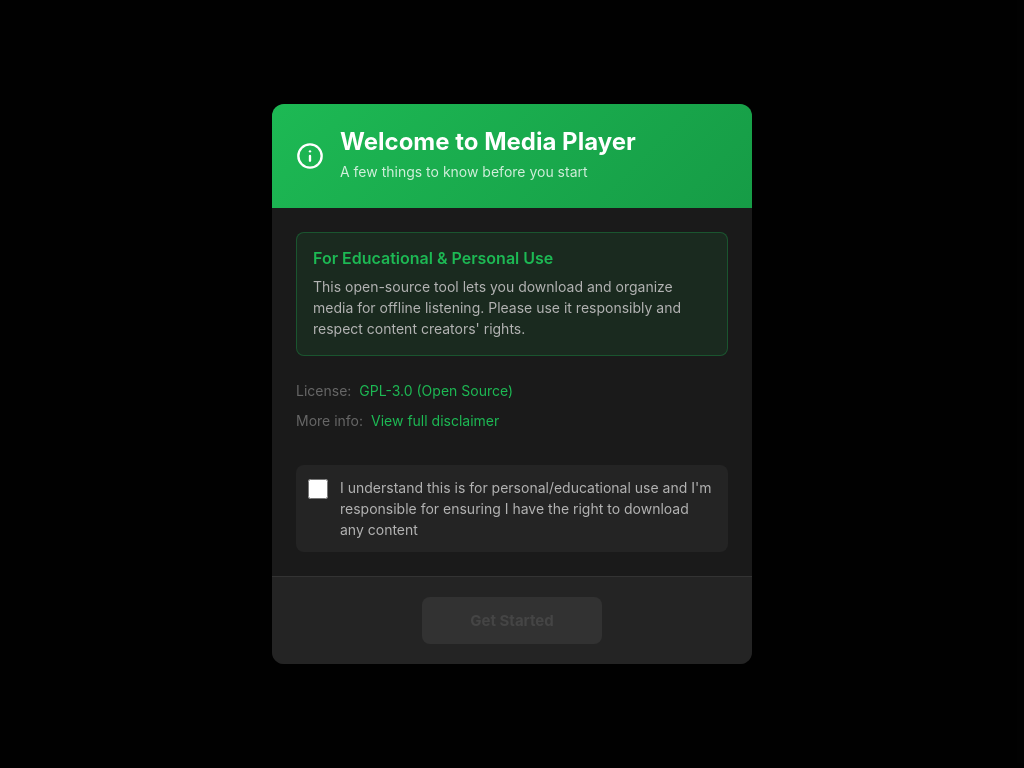
Scenario: FirstRunModal › checkbox interactions › enables accept button when checkbox is checked
Expected: the button "Get Started" is disabled, [422,597,602,644]
Check - now enabled
Click the checkbox. click: (318, 489)
box: [308,479,328,499]
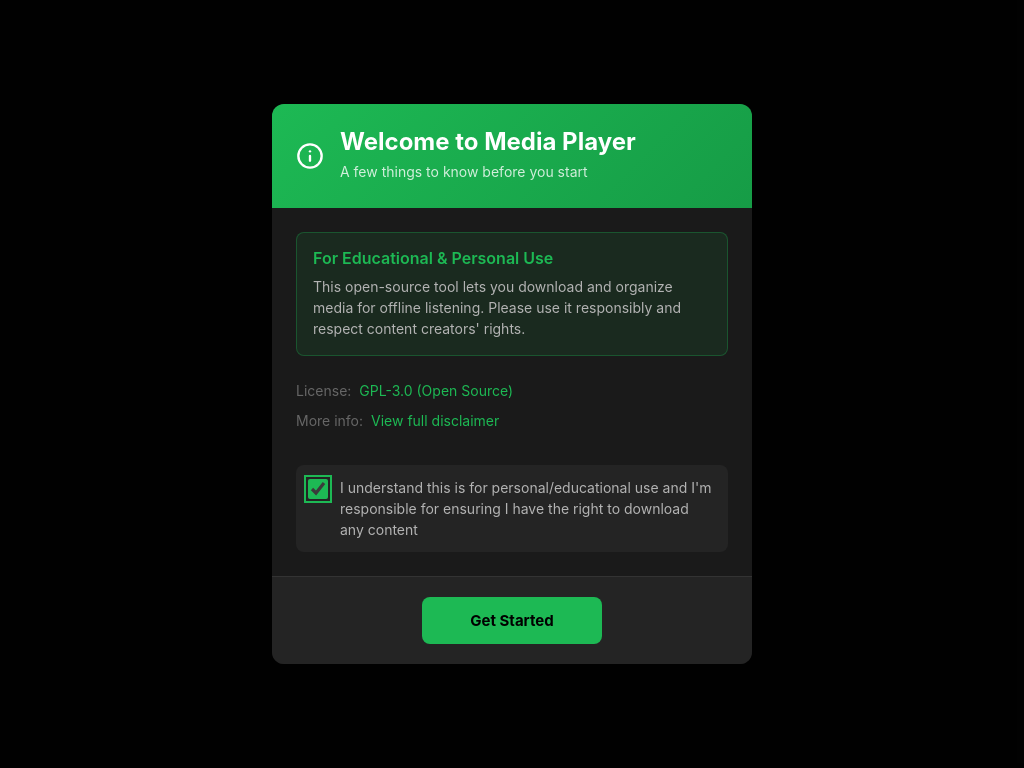
Expected: the button "Get Started" is enabled, [422,597,602,644]
